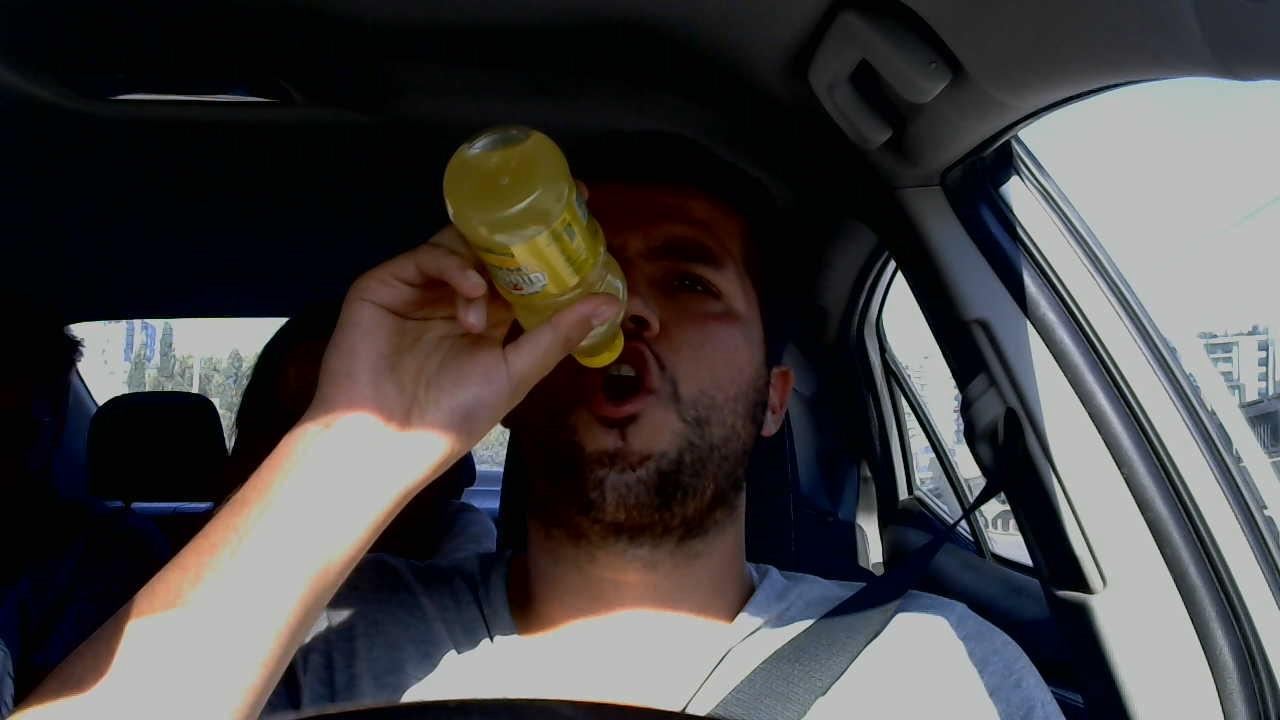Drinking: (415, 120, 790, 520)
